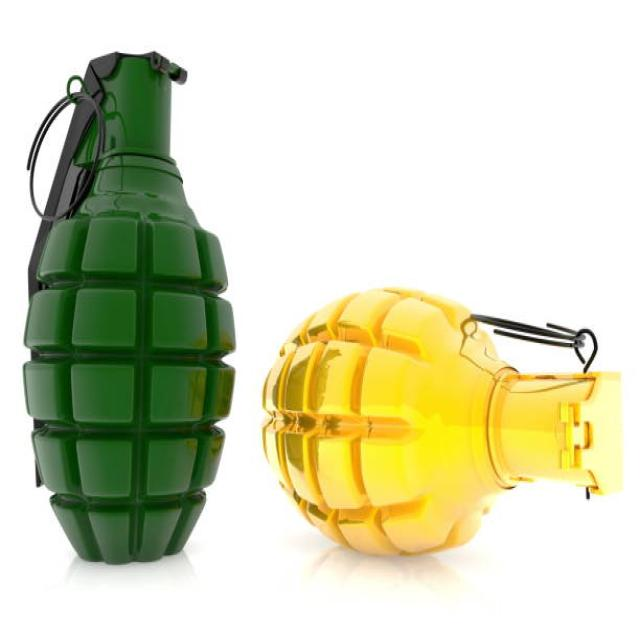grenade: (13, 46, 241, 575), (255, 279, 631, 566)
